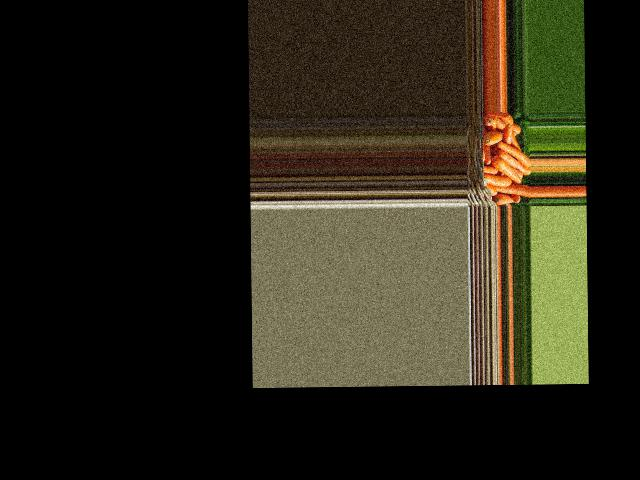carrot: (482, 115, 493, 125)
